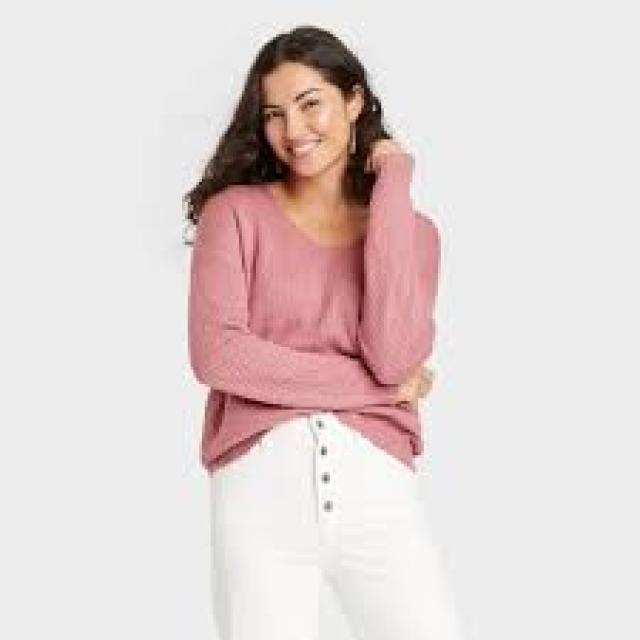Shirt: (152, 162, 482, 467)
